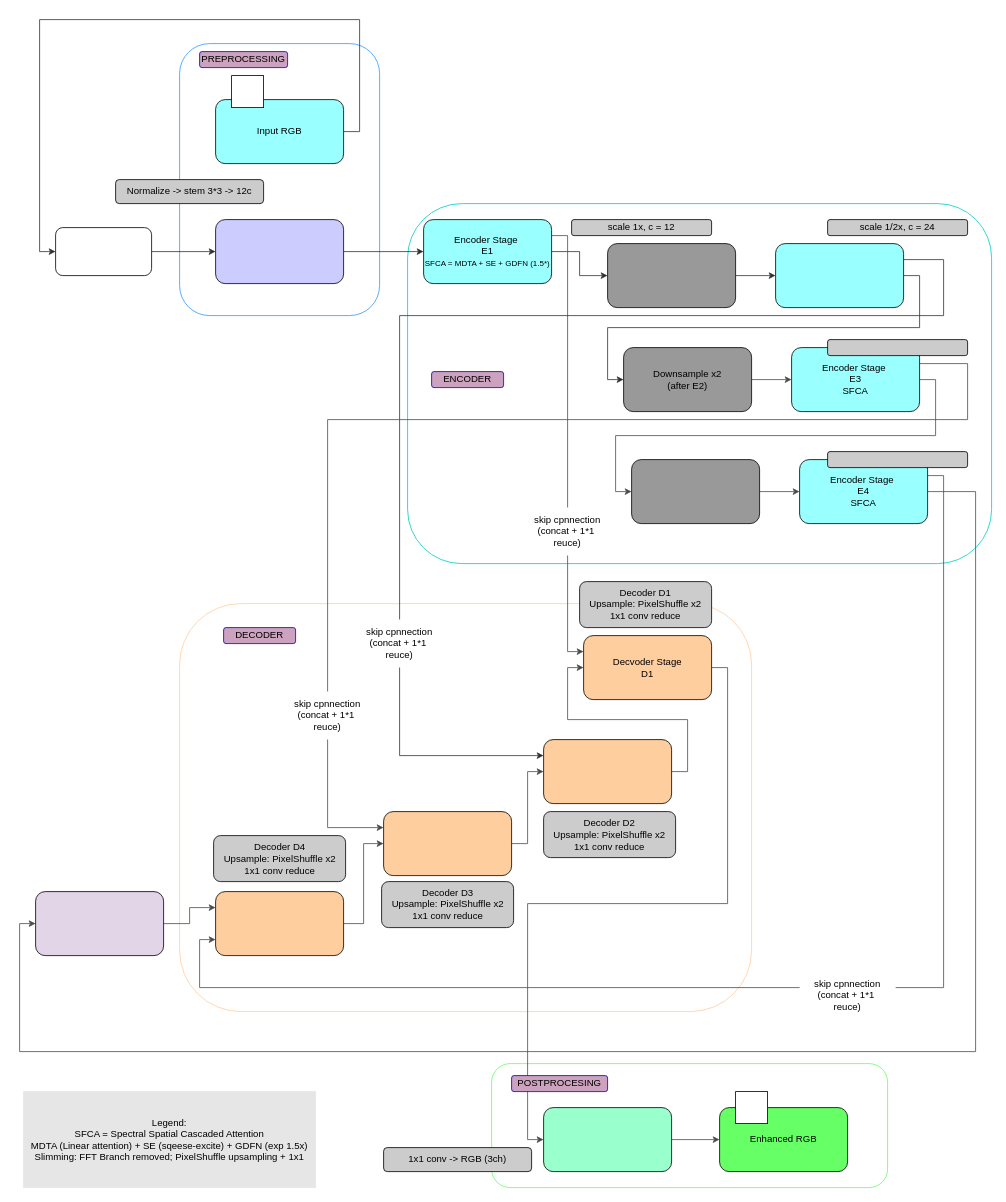
The diagram is 1006 pixels wide and 1202 high, and some of its shapes have lost their labels. The shapes that lost their labels are listed below. From the top down, each one's centre as x and y in pixels, then its label:
the point at 103,251: Normalize to
the point at 279,251: Stem Conv 3*3 to 12 Channels
the point at 671,275: Downsample x2 (after E1) depthwise stride - 2
the point at 839,275: Encoder Stage E2 SFCA
the point at 897,347: scale 1/4x, c = 48
the point at 897,459: scale 1/8x, c = 96
the point at 695,491: Downsample x2 (after E3)
the point at 607,771: Decvoder Stage D2
the point at 447,843: Decvoder Stage D3
the point at 99,923: Bottleneck (SFCA or residual conv)
the point at 279,923: Decvoder Stage D4
the point at 607,1139: Output Conv 3*3 to RGB
